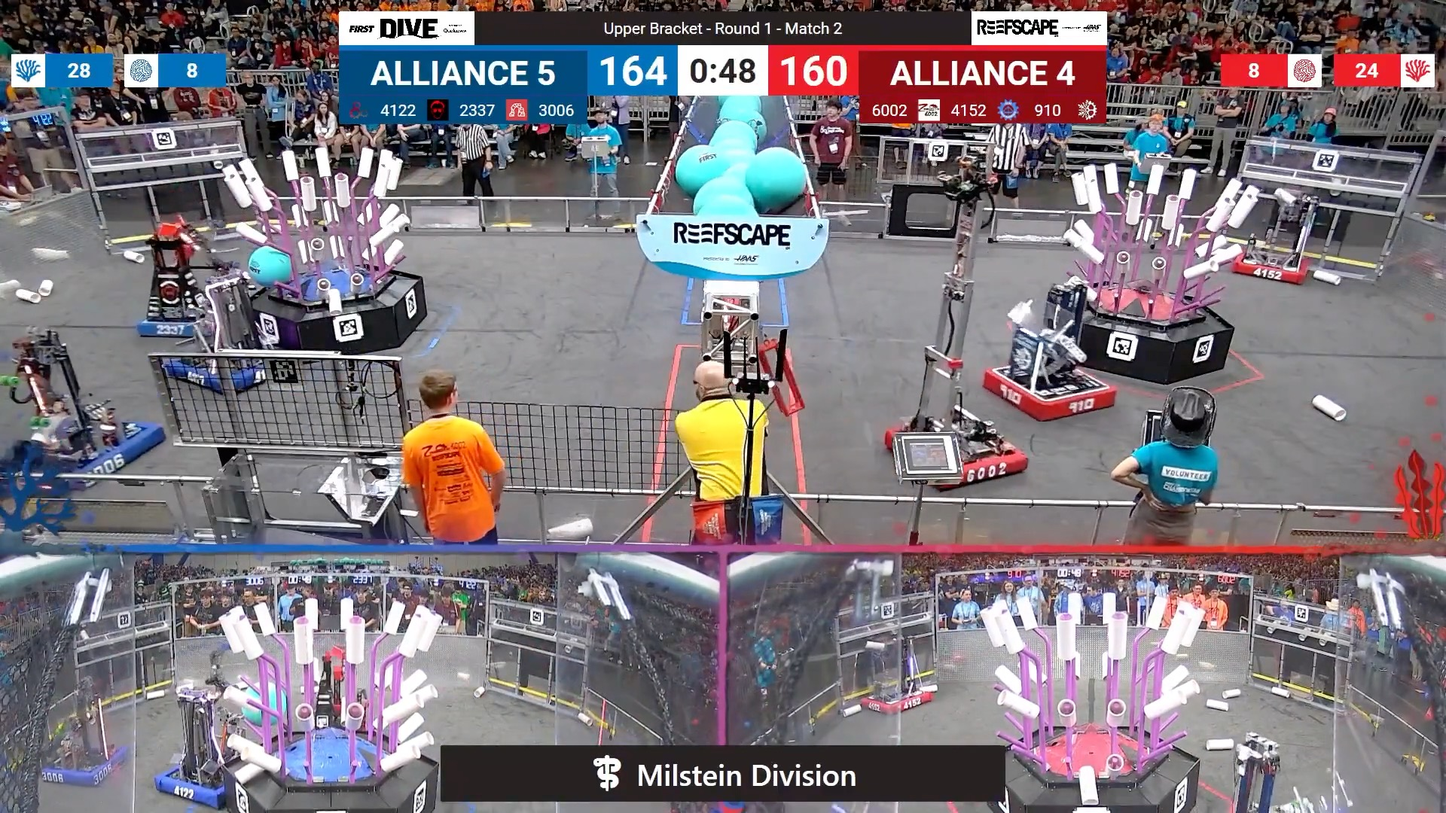bumpers: (11, 414, 174, 490), (881, 417, 1033, 492), (974, 361, 1125, 426), (154, 349, 282, 397), (149, 754, 256, 808), (37, 740, 130, 791), (132, 299, 224, 343), (1222, 247, 1321, 286), (856, 685, 938, 717)
